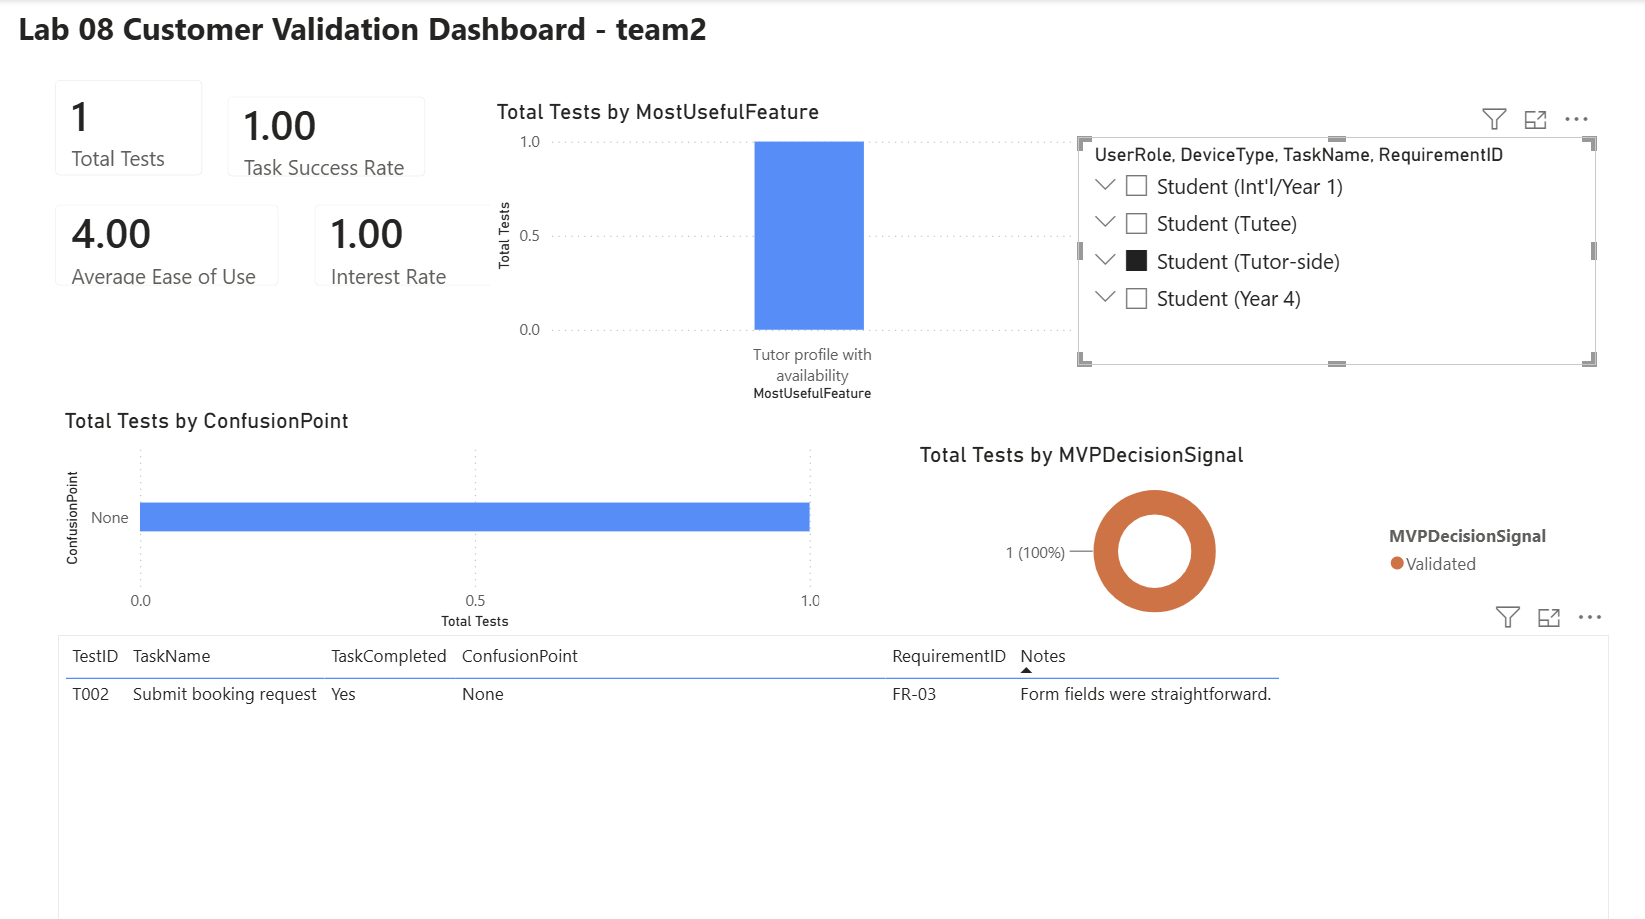

What the dashboard file says about the page in this screenshot:
{"tool":"powerbi","page":{"name":"Validation Dashboard","canvas":[1280,720],"ordinal":0},"visuals":[{"type":"textbox","box":[10.4,0,640.8,76.5],"z":0},{"type":"cardVisual","fields":{"Data":["ValidationResults.Total Tests"]},"box":[26.7,45.2,148.3,108.9],"z":1000},{"type":"cardVisual","fields":{"Data":["ValidationResults.Task Success Rate"]},"box":[159.9,57.9,187.7,96.2],"z":2000},{"type":"cardVisual","fields":{"Data":["ValidationResults.Average Ease of Use"]},"box":[26.7,141.4,207.4,97.3],"z":3000},{"type":"cardVisual","fields":{"Data":["ValidationResults.Interest Rate"]},"box":[227.1,141.4,173.8,97.3],"z":4000},{"type":"clusteredBarChart","fields":{"Category":["ValidationResults.ConfusionPoint"],"Y":["ValidationResults.Total Tests"]},"box":[46.3,315.2,593.3,176.1],"z":5000},{"type":"clusteredColumnChart","fields":{"Category":["ValidationResults.MostUsefulFeature"],"Y":["ValidationResults.Total Tests"]},"box":[380.1,76.5,454.2,238.7],"z":5001},{"type":"donutChart","fields":{"Category":["ValidationResults.MVPDecisionSignal"],"Y":["ValidationResults.Total Tests"]},"box":[706.8,341.8,508.7,149.5],"z":5002},{"type":"tableEx","fields":{"Values":["ValidationResults.TestID","ValidationResults.TaskName","ValidationResults.TaskCompleted","ValidationResults.ConfusionPoint","ValidationResults.RequirementID","ValidationResults.Notes"]},"box":[46.3,491.3,1198.1,228.3],"z":5003},{"type":"slicer","fields":{"Values":["ValidationResults.UserRole","ValidationResults.DeviceType","ValidationResults.TaskName","ValidationResults.RequirementID"]},"box":[834.3,106.6,399.8,176.1],"z":5004}]}

Visuals, with their boxes in screenshot pixels (x1, y1, x2, y2), scaled from the page's 1280x720 canvas onto the 1645x919 screenshot:
textbox: (13, 0, 837, 98)
cardVisual - ValidationResults.Total Tests: (34, 58, 225, 197)
cardVisual - ValidationResults.Task Success Rate: (205, 74, 447, 197)
cardVisual - ValidationResults.Average Ease of Use: (34, 180, 301, 305)
cardVisual - ValidationResults.Interest Rate: (292, 180, 515, 305)
clusteredBarChart - ValidationResults.ConfusionPoint x ValidationResults.Total Tests: (60, 402, 822, 627)
clusteredColumnChart - ValidationResults.MostUsefulFeature x ValidationResults.Total Tests: (488, 98, 1072, 402)
donutChart - ValidationResults.MVPDecisionSignal x ValidationResults.Total Tests: (908, 436, 1562, 627)
tableEx - ValidationResults.TestID x ValidationResults.TaskName: (60, 627, 1599, 918)
slicer - ValidationResults.UserRole x ValidationResults.DeviceType: (1072, 136, 1586, 361)
